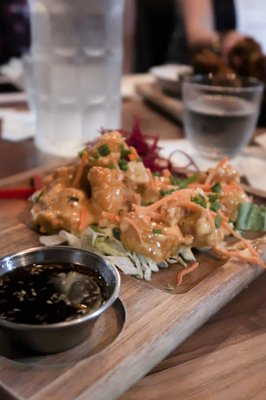pizza: (24, 0, 124, 159)
sushi: (0, 246, 122, 359)
